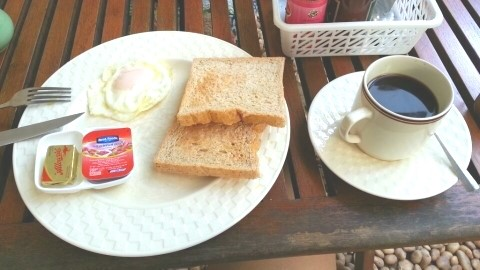fried egg: (85, 59, 169, 119)
slice of bread: (157, 101, 272, 184), (183, 51, 290, 131)
